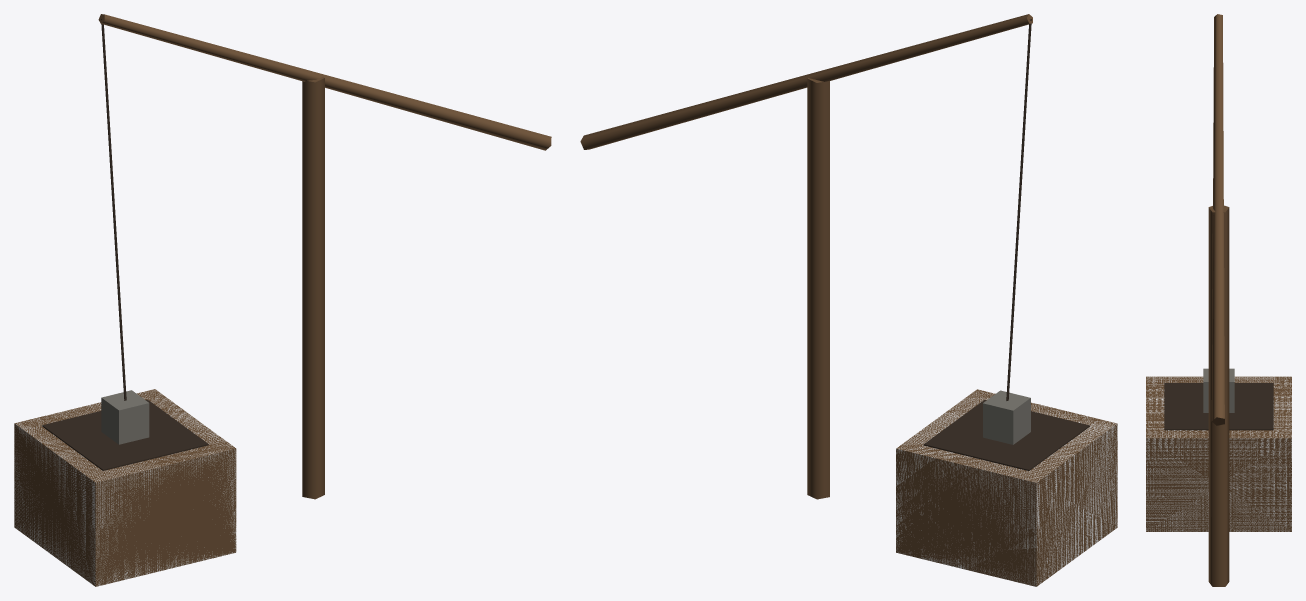
Rendered from izba-well.glb.
The picture shows the model from 3 angles, left to right: view 1: azimuth 30°, elevation 25°; view 2: azimuth 150°, elevation 25°; view 3: azimuth 270°, elevation 25°; orthographic projection. The views are drawn at different scales.
Parts seen in each view (by area): view 1: 00_paint1, solid, 01_#3a3028, 02_#77756e; view 2: 00_paint1, solid, 01_#3a3028, 02_#77756e; view 3: 00_paint1, solid, 01_#3a3028, 02_#77756e.
Boxes of the visible parts, x1,y1,x2,y2 form: 00_paint1: (14, 14, 551, 586); solid: (14, 389, 236, 586); 01_#3a3028: (42, 19, 208, 470); 02_#77756e: (101, 390, 149, 444); 00_paint1: (580, 14, 1117, 586); solid: (896, 390, 1117, 586); 01_#3a3028: (923, 19, 1089, 470); 02_#77756e: (983, 390, 1030, 444); 00_paint1: (1146, 14, 1291, 586); solid: (1146, 377, 1291, 531); 01_#3a3028: (1164, 383, 1273, 430); 02_#77756e: (1203, 368, 1234, 412).
Bounding box in the file's own units: 4.23 × 4.33 × 1.2.
